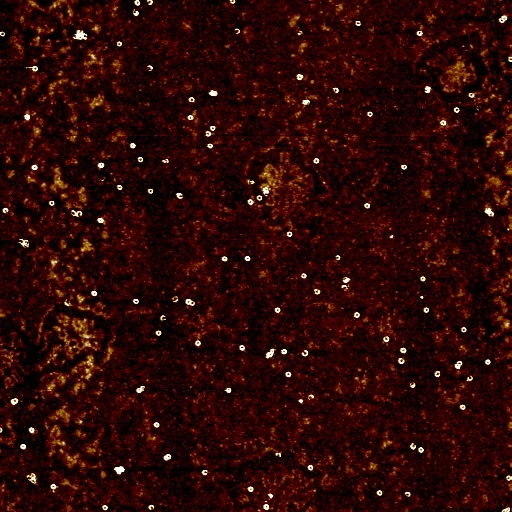-1: (71, 28, 89, 42), (17, 235, 32, 251), (111, 464, 128, 477), (453, 358, 465, 372), (26, 471, 37, 486), (482, 206, 495, 218), (265, 348, 276, 362), (129, 8, 142, 18), (134, 384, 147, 394), (162, 452, 174, 462), (498, 14, 508, 25), (263, 185, 272, 197), (423, 84, 432, 95), (209, 89, 219, 98), (22, 112, 31, 122), (171, 294, 181, 303), (409, 380, 418, 390), (246, 178, 257, 186), (342, 276, 352, 284), (295, 29, 304, 37), (274, 450, 282, 459), (500, 506, 511, 512), (389, 231, 397, 239), (296, 397, 304, 405), (161, 158, 170, 165), (302, 99, 312, 105)
1/4: (64, 299, 71, 308)
2/4: (232, 25, 243, 36), (332, 253, 344, 263), (146, 63, 156, 73), (307, 394, 316, 403), (340, 285, 349, 292), (507, 55, 511, 63)
3/4: (174, 191, 185, 202), (114, 182, 125, 193), (199, 468, 211, 477), (465, 374, 475, 384), (70, 206, 77, 220), (77, 207, 85, 219), (403, 490, 413, 499), (300, 349, 309, 359), (312, 287, 322, 296), (2, 205, 10, 216), (190, 297, 198, 308), (408, 442, 417, 451), (332, 85, 340, 95), (147, 503, 157, 511), (397, 357, 407, 365), (354, 19, 363, 27), (160, 313, 167, 323), (383, 334, 390, 344), (469, 90, 475, 98), (505, 474, 511, 482), (228, 1, 237, 5), (148, 1, 155, 5)
4/4: (9, 395, 20, 408), (219, 253, 231, 264), (154, 327, 164, 339), (193, 338, 203, 349), (262, 501, 272, 512), (272, 305, 283, 315), (150, 420, 162, 429), (452, 105, 462, 115), (136, 155, 146, 165), (30, 162, 40, 172), (131, 297, 141, 307), (27, 425, 37, 435), (246, 484, 256, 494), (352, 310, 361, 321), (128, 141, 138, 150), (147, 187, 157, 196), (100, 502, 109, 512), (296, 71, 304, 82), (239, 342, 247, 353), (439, 118, 448, 127), (209, 123, 218, 132), (206, 142, 215, 151), (285, 230, 294, 239), (97, 161, 106, 170), (96, 216, 105, 225), (31, 64, 40, 73), (90, 289, 99, 298), (48, 198, 56, 208), (0, 29, 8, 39), (183, 296, 191, 306), (280, 347, 288, 357), (400, 163, 409, 171), (363, 201, 371, 210), (187, 113, 196, 121), (246, 198, 255, 206), (115, 40, 124, 48), (244, 254, 252, 263), (19, 442, 28, 450), (50, 481, 58, 490), (284, 370, 292, 379), (399, 346, 408, 354), (307, 464, 314, 474), (434, 369, 441, 379), (485, 357, 492, 367), (312, 157, 320, 165), (376, 490, 384, 498), (460, 326, 468, 334), (257, 193, 264, 202), (299, 272, 308, 279), (423, 305, 430, 314), (132, 1, 144, 6), (189, 95, 196, 103), (224, 386, 232, 393), (459, 403, 466, 411), (419, 275, 426, 283), (418, 446, 425, 454), (367, 110, 374, 117), (417, 29, 423, 36)
